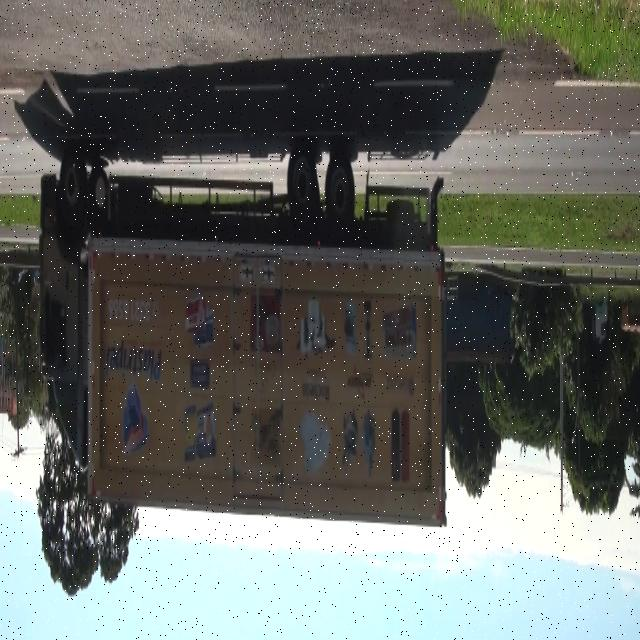-axle: (287, 144, 318, 228), (324, 150, 355, 229), (58, 142, 85, 226)
